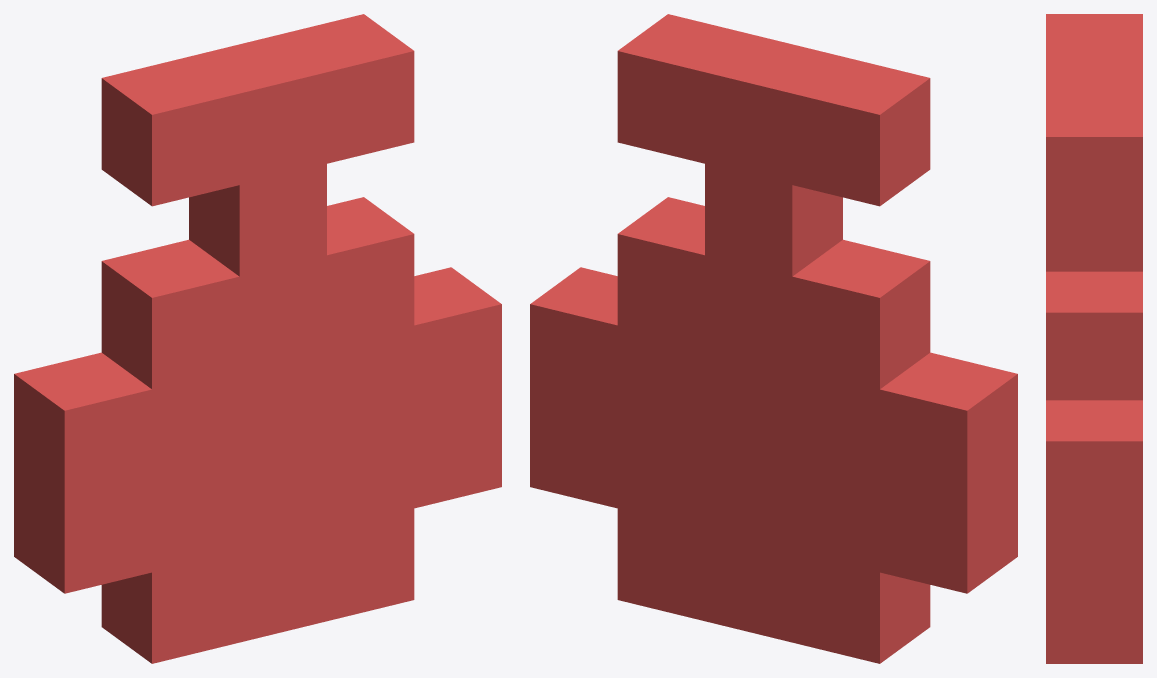
Rendered from Potion-Large-Pink.vox.obj.
3 views of the same model, side by side, from view 1: azimuth 30°, elevation 25°; view 2: azimuth 150°, elevation 25°; view 3: azimuth 270°, elevation 25° (orthographic). The views are drawn at different scales.
Bounding box in the file's own units: 0.5 × 0.6 × 0.1.
1 material, 1 textured.
